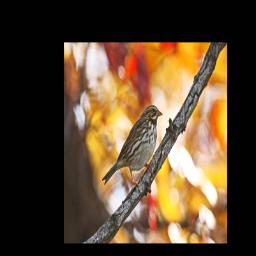Sparrow: (102, 104, 163, 191)
